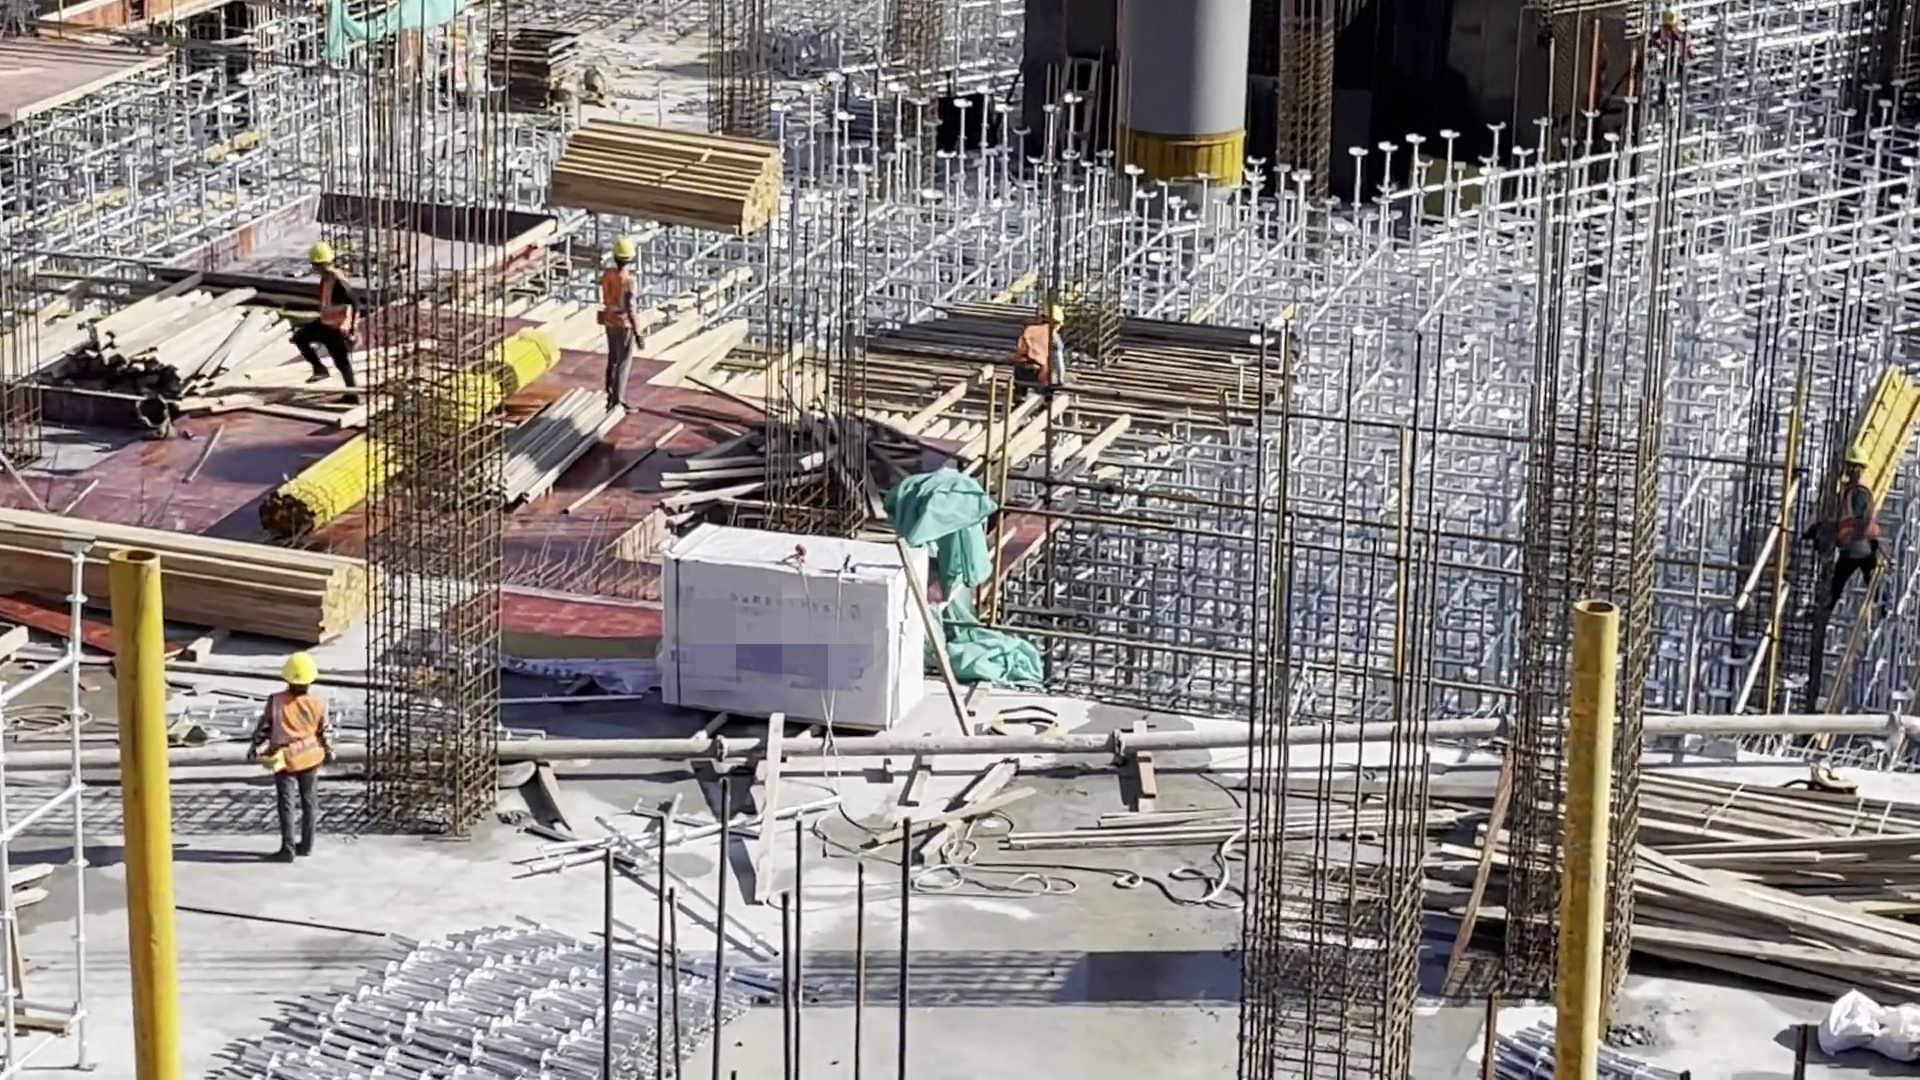helmet: (276, 651, 315, 688), (315, 242, 335, 272), (611, 238, 632, 264), (1848, 451, 1866, 469), (1051, 303, 1065, 324)
person: (255, 648, 329, 865), (295, 239, 366, 387), (1834, 450, 1886, 620), (597, 234, 648, 406), (1017, 298, 1074, 393)
vest: (270, 690, 325, 776), (313, 272, 362, 332), (600, 272, 639, 336), (1017, 320, 1055, 386), (1839, 484, 1880, 545)
wood: (1466, 722, 1920, 1024), (6, 495, 403, 647), (547, 117, 785, 238)
